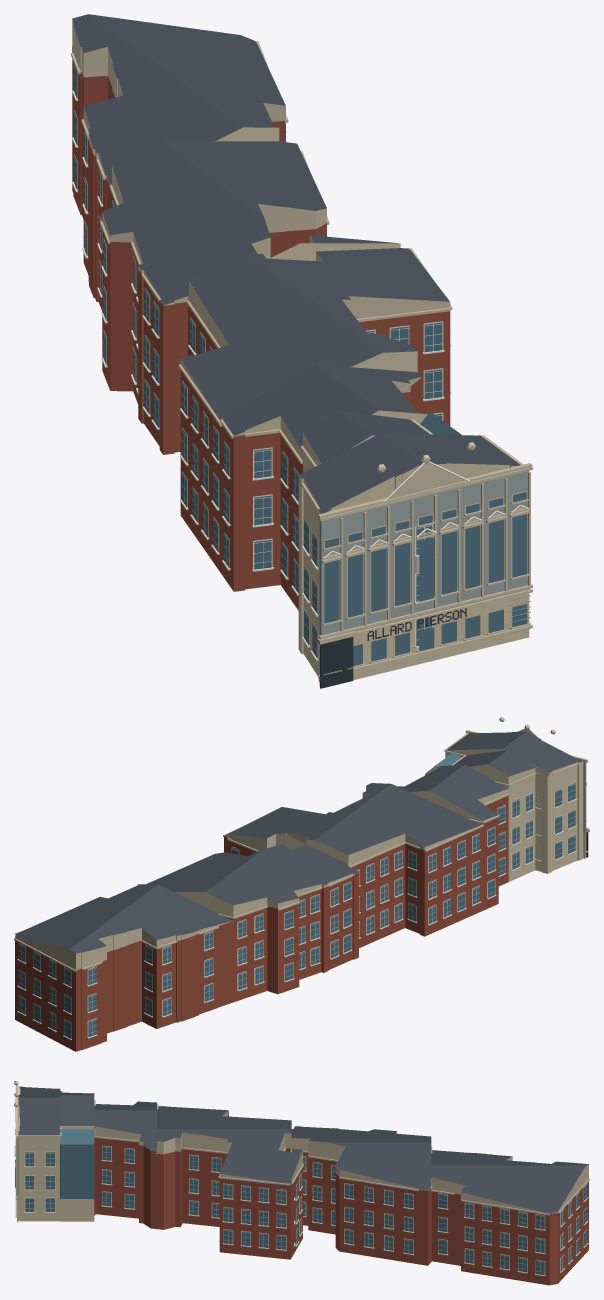
File: allard-pierson.glb
The picture shows the model from 3 angles, top to bottom: view 1: azimuth 30°, elevation 25°; view 2: azimuth 150°, elevation 25°; view 3: azimuth 270°, elevation 25°; orthographic projection. The views are drawn at different scales.
Visible parts, largest first — view 1: allard-pierson; view 2: allard-pierson; view 3: allard-pierson.
Part boxes in pixels (x1=…): allard-pierson: x1=71, y1=14, x2=532, y2=688; allard-pierson: x1=14, y1=717, x2=589, y2=1051; allard-pierson: x1=14, y1=1080, x2=589, y2=1285.
Bounding box in the file's own units: 54.81 × 23.23 × 116.
